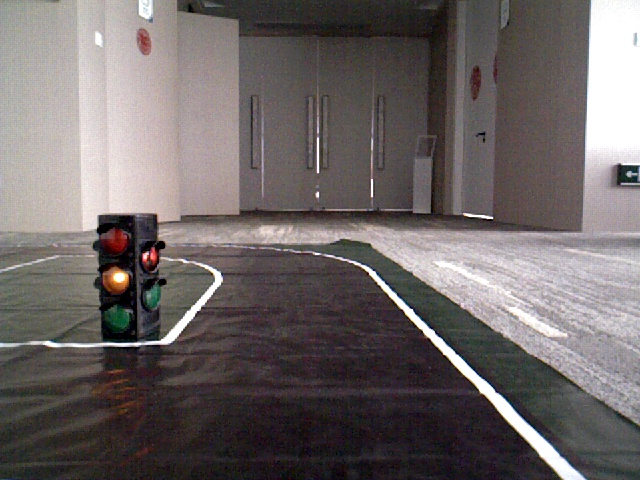yellow: (98, 215, 137, 335)
